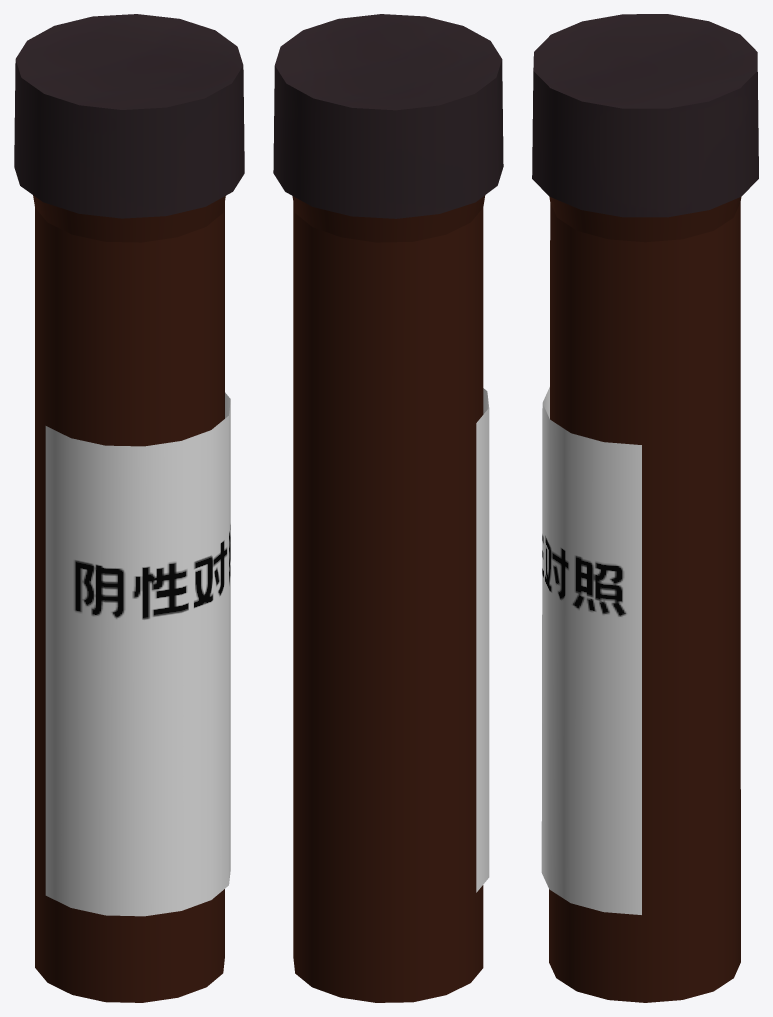
File: 阴性对照.glb
3 views of the same model, side by side, from view 1: azimuth 30°, elevation 25°; view 2: azimuth 150°, elevation 25°; view 3: azimuth 270°, elevation 25° (orthographic).
Visible parts, largest first — view 1: 一抗原液.002, 一抗原液.001, DAPI染液.002; view 2: 一抗原液.001, DAPI染液.002, 一抗原液.002; view 3: 一抗原液.001, 一抗原液.002, DAPI染液.002.
Part boxes in pixels (left/top/right/bottom): 一抗原液.002: left=45, top=392, right=230, bottom=916; 一抗原液.001: left=33, top=195, right=225, bottom=1002; DAPI染液.002: left=14, top=14, right=244, bottom=218; 一抗原液.001: left=292, top=195, right=485, bottom=1002; DAPI染液.002: left=273, top=14, right=503, bottom=218; 一抗原液.002: left=476, top=388, right=489, bottom=892; 一抗原液.001: left=549, top=196, right=741, bottom=1002; 一抗原液.002: left=541, top=387, right=641, bottom=914; DAPI染液.002: left=532, top=14, right=758, bottom=217.
Size of the model in its own units: 0.0479 by 0.2098 by 0.0479.
2 materials, 2 textured.
